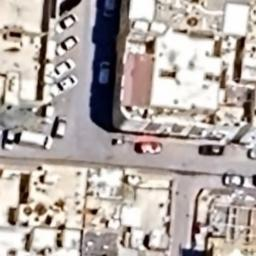sedan: (52, 73, 82, 98), (52, 36, 84, 58), (53, 14, 80, 34), (52, 60, 77, 78)
truck: (16, 127, 54, 154)
unknown: (134, 140, 166, 160), (221, 171, 252, 190), (195, 142, 227, 160)
van: (94, 60, 116, 88), (52, 116, 72, 140)
